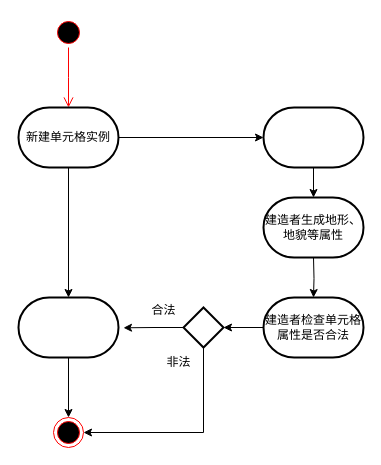
The diagram is 381 pixels wide and 465 high, and some of its shapes have lost their labels. The shapes that lost their labels are listed below. From the top down, each one's centre as x and y in pixels, then its label:
the point at 313,137: 新建单元格建造者
the point at 68,327: 获取单元格实例
